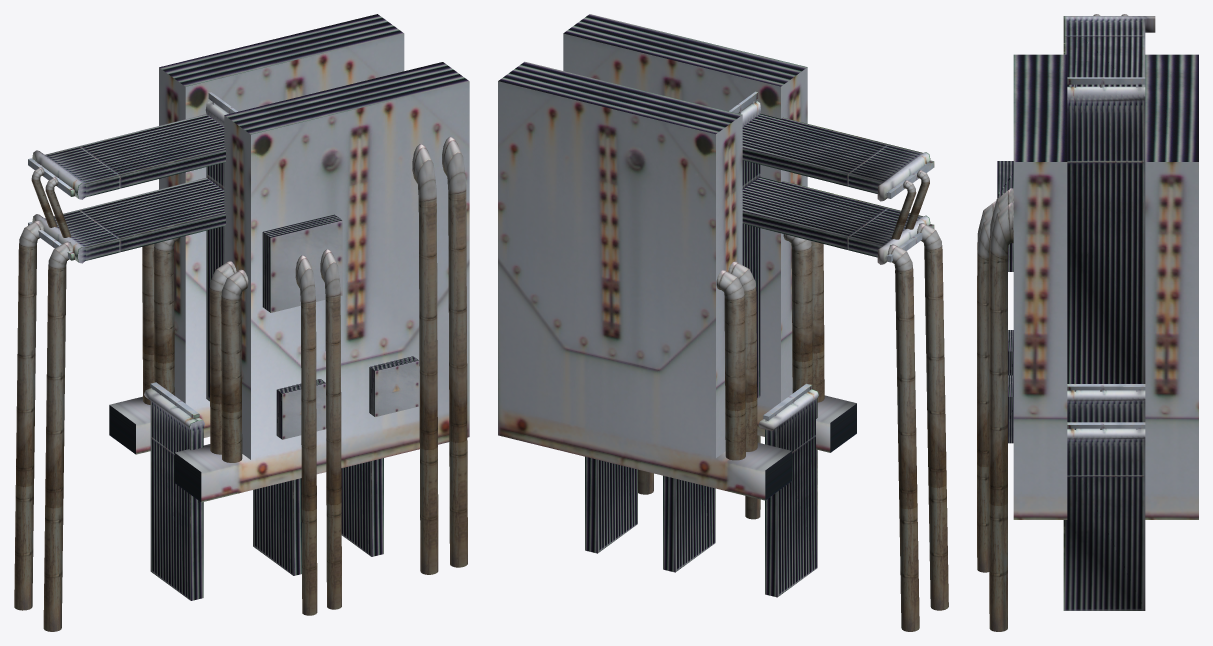
The model's file is industrial19.obj.
3 views of the same model, side by side, from view 1: azimuth 30°, elevation 25°; view 2: azimuth 150°, elevation 25°; view 3: azimuth 270°, elevation 25° (orthographic).
Visible parts, largest first — view 1: industrial19; view 2: industrial19; view 3: industrial19.
Part boxes in pixels (x1=…): industrial19: x1=14, y1=14, x2=469, y2=631; industrial19: x1=498, y1=14, x2=948, y2=631; industrial19: x1=977, y1=14, x2=1198, y2=631.
Bounding box in the file's own units: 53.1 × 61.88 × 25.86.
1 material, 1 textured.
